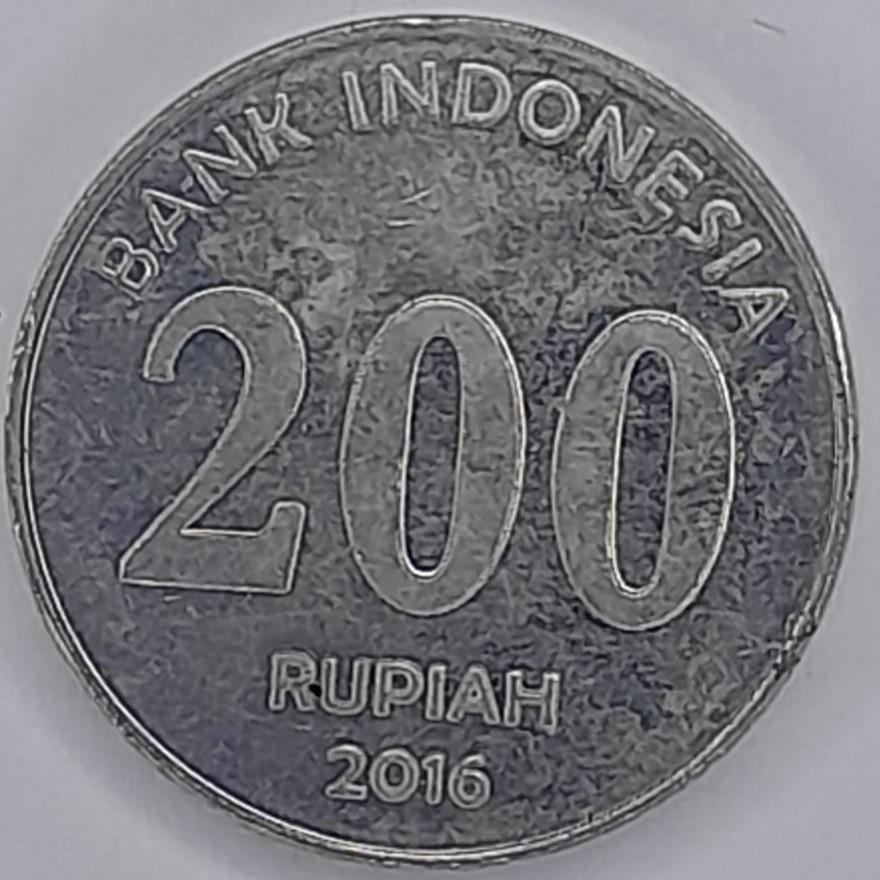coin_200_e2016: (0, 15, 880, 880)
